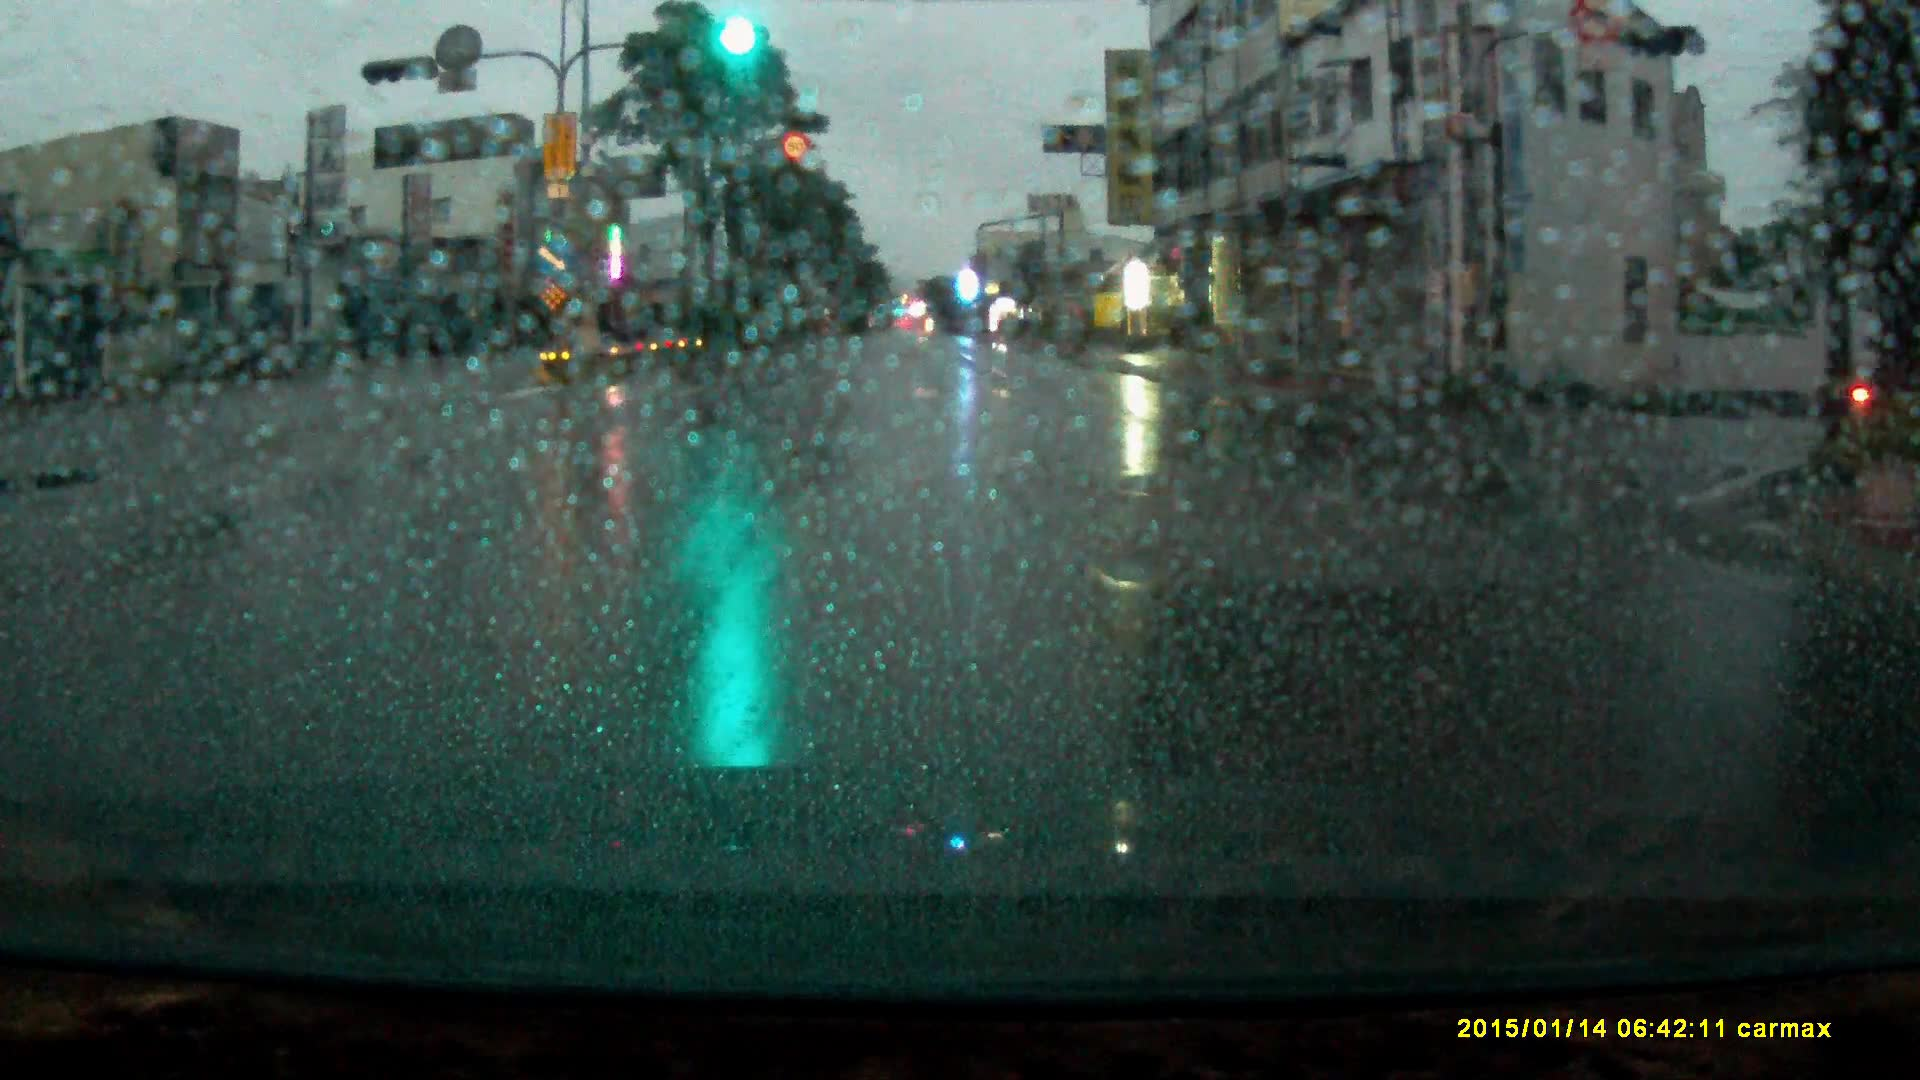rider: (1837, 328, 1903, 435)
